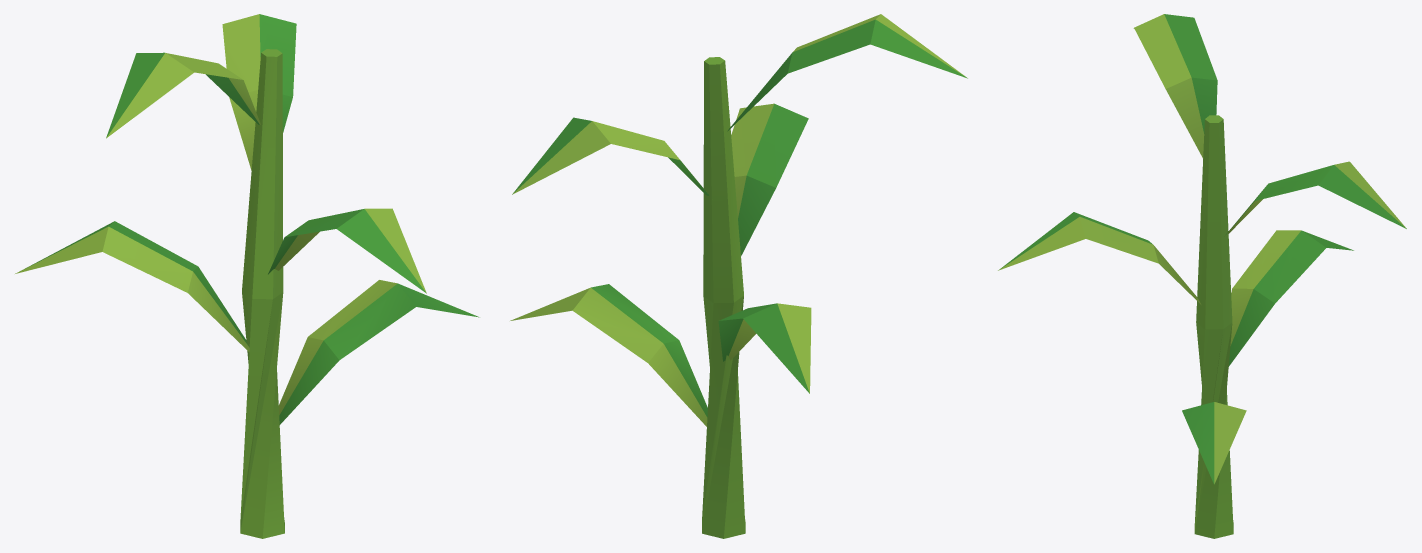
File: Corn_2.glb
3 renders of one model, left to right at view 1: azimuth 30°, elevation 25°; view 2: azimuth 150°, elevation 25°; view 3: azimuth 270°, elevation 25°, orthographic. The views are drawn at different scales.
Visible parts, largest first — view 1: Corn_2; view 2: Corn_2; view 3: Corn_2.
Boxes of the visible parts, x1,y1,x2,y2 form: Corn_2: (15,14,479,538); Corn_2: (510,14,967,538); Corn_2: (998,14,1406,538).
Bounding box in the file's own units: 0.6803 × 0.8135 × 0.6548.
